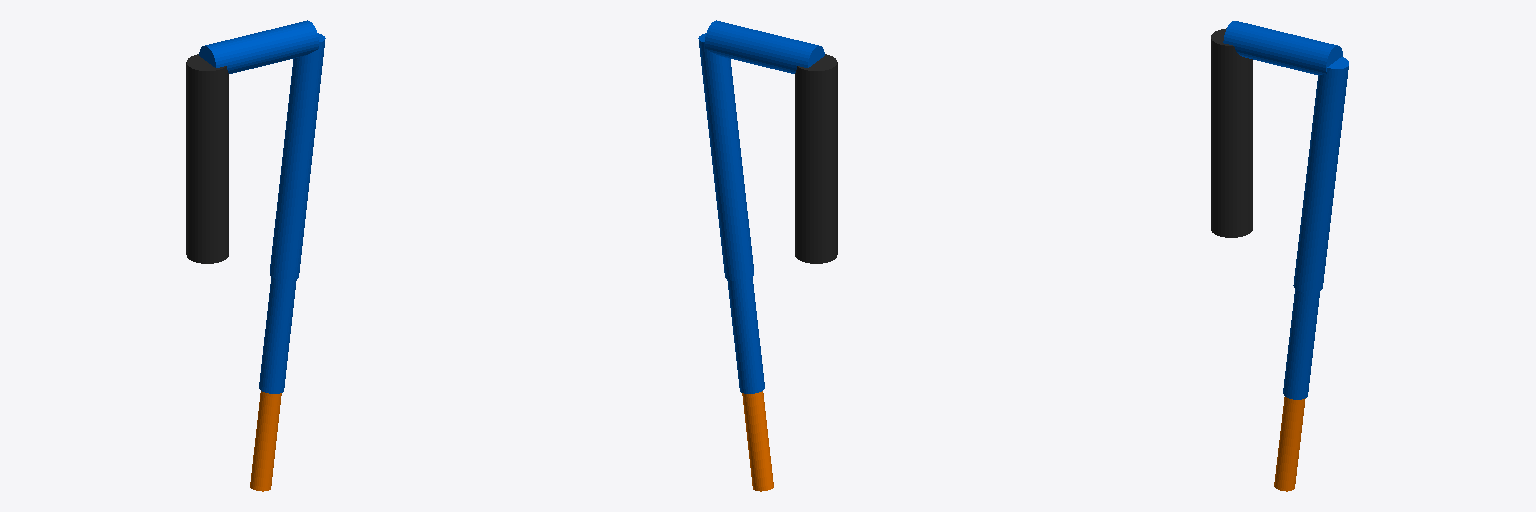
robot.urdf — hydraulic_arm:
<?xml version="1.0"?>
<robot name="hydraulic_arm">

  <material name="blue"><color rgba="0 0.4 0.8 1"/></material> <material name="orange"><color rgba="1 0.5 0 1"/></material> <material name="gray"><color rgba="0.2 0.2 0.2 1"/></material>

  <link name="base_link">
    <visual>
      <origin xyz="0 0 0.25" rpy="0 0 0"/>
      <geometry><cylinder radius="0.05" length="0.5"/></geometry>
      <material name="gray"><color rgba="0.2 0.2 0.2 1"/></material>
    </visual>
  </link>

  <joint name="joint1" type="revolute">
    <parent link="base_link"/>
    <child link="link1"/>
    <origin xyz="0 0 0.5" rpy="0 0 0"/>
    <axis xyz="0 0 1"/> <limit lower="-1.047" upper="1.047" effort="100" velocity="1.0"/>
  </joint>

  <link name="link1">
    <visual>
      <origin xyz="0.095 0 0" rpy="0 1.5708 0"/> 
      <geometry><cylinder radius="0.04" length="0.19"/></geometry>
      <material name="blue"><color rgba="0 0.4 0.8 1"/></material>
    </visual>
  </link>

  <joint name="joint2" type="revolute">
    <parent link="link1"/>
    <child link="link2"/>
    <origin xyz="0.19 0 0" rpy="1.5708 0 0"/> <axis xyz="0 0 1"/> <limit lower="-0.48" upper="1.57" effort="100" velocity="1.0"/>
  </joint>

  <link name="link2">
    <visual>
      <origin xyz="0.045 0 0" rpy="0 1.5708 0"/>
      <geometry><cylinder radius="0.04" length="0.09"/></geometry>
      <material name="blue"><color rgba="0 0.4 0.8 1"/></material>
    </visual>
  </link>

  <joint name="joint3" type="revolute">
    <parent link="link2"/>
    <child link="link3"/>
    <origin xyz="0.09 0 0" rpy="0 0 0"/>
    <axis xyz="0 0 1"/>
    <limit lower="-2.65" upper="-0.73" effort="100" velocity="1.0"/>
  </joint>

  <link name="link3">
    <visual>
      <origin xyz="0.3025 0 0" rpy="0 1.5708 0"/>
      <geometry><cylinder radius="0.035" length="0.605"/></geometry>
      <material name="blue"><color rgba="0 0.4 0.8 1"/></material>
    </visual>
  </link>
  
  <joint name="joint4" type="revolute">
    <parent link="link3"/>
    <child link="link4"/>
    <origin xyz="0.605 0 0" rpy="0 0 0"/>
    <axis xyz="0 0 1"/>
    <limit lower="-1.57" upper="1.57" effort="100" velocity="1.0"/>
  </joint>

  <link name="link4">
    <visual>
      <origin xyz="0.145 0 0" rpy="0 1.5708 0"/>
      <geometry><cylinder radius="0.03" length="0.29"/></geometry>
      <material name="blue"><color rgba="0 0.4 0.8 1"/></material>
    </visual>
  </link>

  
  <joint name="soft_joint_0" type="revolute">
    <parent link="link4"/>
    <child link="soft_0"/>
    <origin xyz="0.29 0 0" rpy="0 0 0"/>
    <axis xyz="0 1 0"/> <limit lower="-0.2" upper="0.2" effort="10" velocity="1.0"/>
  </joint>

  <link name="soft_0">
    <visual>
      <origin xyz="0.0125 0 0" rpy="0 1.5708 0"/>
      <geometry><cylinder radius="0.025" length="0.025"/></geometry>
      <material name="orange"><color rgba="1 0.5 0 1"/></material>
    </visual>
  </link>
        
  <joint name="soft_joint_1" type="revolute">
    <parent link="soft_0"/>
    <child link="soft_1"/>
    <origin xyz="0.025 0 0" rpy="0 0 0"/>
    <axis xyz="0 1 0"/> <limit lower="-0.2" upper="0.2" effort="10" velocity="1.0"/>
  </joint>

  <link name="soft_1">
    <visual>
      <origin xyz="0.0125 0 0" rpy="0 1.5708 0"/>
      <geometry><cylinder radius="0.025" length="0.025"/></geometry>
      <material name="orange"><color rgba="1 0.5 0 1"/></material>
    </visual>
  </link>
        
  <joint name="soft_joint_2" type="revolute">
    <parent link="soft_1"/>
    <child link="soft_2"/>
    <origin xyz="0.025 0 0" rpy="0 0 0"/>
    <axis xyz="0 1 0"/> <limit lower="-0.2" upper="0.2" effort="10" velocity="1.0"/>
  </joint>

  <link name="soft_2">
    <visual>
      <origin xyz="0.0125 0 0" rpy="0 1.5708 0"/>
      <geometry><cylinder radius="0.025" length="0.025"/></geometry>
      <material name="orange"><color rgba="1 0.5 0 1"/></material>
    </visual>
  </link>
        
  <joint name="soft_joint_3" type="revolute">
    <parent link="soft_2"/>
    <child link="soft_3"/>
    <origin xyz="0.025 0 0" rpy="0 0 0"/>
    <axis xyz="0 1 0"/> <limit lower="-0.2" upper="0.2" effort="10" velocity="1.0"/>
  </joint>

  <link name="soft_3">
    <visual>
      <origin xyz="0.0125 0 0" rpy="0 1.5708 0"/>
      <geometry><cylinder radius="0.025" length="0.025"/></geometry>
      <material name="orange"><color rgba="1 0.5 0 1"/></material>
    </visual>
  </link>
        
  <joint name="soft_joint_4" type="revolute">
    <parent link="soft_3"/>
    <child link="soft_4"/>
    <origin xyz="0.025 0 0" rpy="0 0 0"/>
    <axis xyz="0 1 0"/> <limit lower="-0.2" upper="0.2" effort="10" velocity="1.0"/>
  </joint>

  <link name="soft_4">
    <visual>
      <origin xyz="0.0125 0 0" rpy="0 1.5708 0"/>
      <geometry><cylinder radius="0.025" length="0.025"/></geometry>
      <material name="orange"><color rgba="1 0.5 0 1"/></material>
    </visual>
  </link>
        
  <joint name="soft_joint_5" type="revolute">
    <parent link="soft_4"/>
    <child link="soft_5"/>
    <origin xyz="0.025 0 0" rpy="0 0 0"/>
    <axis xyz="0 1 0"/> <limit lower="-0.2" upper="0.2" effort="10" velocity="1.0"/>
  </joint>

  <link name="soft_5">
    <visual>
      <origin xyz="0.0125 0 0" rpy="0 1.5708 0"/>
      <geometry><cylinder radius="0.025" length="0.025"/></geometry>
      <material name="orange"><color rgba="1 0.5 0 1"/></material>
    </visual>
  </link>
        
  <joint name="soft_joint_6" type="revolute">
    <parent link="soft_5"/>
    <child link="soft_6"/>
    <origin xyz="0.025 0 0" rpy="0 0 0"/>
    <axis xyz="0 1 0"/> <limit lower="-0.2" upper="0.2" effort="10" velocity="1.0"/>
  </joint>

  <link name="soft_6">
    <visual>
      <origin xyz="0.0125 0 0" rpy="0 1.5708 0"/>
      <geometry><cylinder radius="0.025" length="0.025"/></geometry>
      <material name="orange"><color rgba="1 0.5 0 1"/></material>
    </visual>
  </link>
        
  <joint name="soft_joint_7" type="revolute">
    <parent link="soft_6"/>
    <child link="soft_7"/>
    <origin xyz="0.025 0 0" rpy="0 0 0"/>
    <axis xyz="0 1 0"/> <limit lower="-0.2" upper="0.2" effort="10" velocity="1.0"/>
  </joint>

  <link name="soft_7">
    <visual>
      <origin xyz="0.0125 0 0" rpy="0 1.5708 0"/>
      <geometry><cylinder radius="0.025" length="0.025"/></geometry>
      <material name="orange"><color rgba="1 0.5 0 1"/></material>
    </visual>
  </link>
        
  <joint name="soft_joint_8" type="revolute">
    <parent link="soft_7"/>
    <child link="soft_8"/>
    <origin xyz="0.025 0 0" rpy="0 0 0"/>
    <axis xyz="0 1 0"/> <limit lower="-0.2" upper="0.2" effort="10" velocity="1.0"/>
  </joint>

  <link name="soft_8">
    <visual>
      <origin xyz="0.0125 0 0" rpy="0 1.5708 0"/>
      <geometry><cylinder radius="0.025" length="0.025"/></geometry>
      <material name="orange"><color rgba="1 0.5 0 1"/></material>
    </visual>
  </link>
        
  <joint name="soft_joint_9" type="revolute">
    <parent link="soft_8"/>
    <child link="soft_9"/>
    <origin xyz="0.025 0 0" rpy="0 0 0"/>
    <axis xyz="0 1 0"/> <limit lower="-0.2" upper="0.2" effort="10" velocity="1.0"/>
  </joint>

  <link name="soft_9">
    <visual>
      <origin xyz="0.0125 0 0" rpy="0 1.5708 0"/>
      <geometry><cylinder radius="0.025" length="0.025"/></geometry>
      <material name="orange"><color rgba="1 0.5 0 1"/></material>
    </visual>
  </link>
        
</robot>

--- What the picture shows (computed from the rendered views, not written in the file) ---
Views: 3 orthographic renders of the robot side by side, from view 1: azimuth 30°, elevation 25°; view 2: azimuth 150°, elevation 25°; view 3: azimuth 330°, elevation 25°.
Robot: hydraulic_arm — 15 links, 14 joints (14 revolute); root link base_link; default pose: joints at zero except 1 at the middle of their limits (joint3 = -1.69).
Visible links, largest first — view 1: base_link, link3, link4, link1, link2; view 2: base_link, link3, link4, link1, link2; view 3: base_link, link3, link4, link1, link2.
Boxes of the visible links, left/top/right/bottom form: base_link: left=186, top=54, right=228, bottom=263; link3: left=270, top=33, right=325, bottom=280; link4: left=259, top=277, right=296, bottom=393; link1: left=199, top=29, right=285, bottom=73; link2: left=275, top=20, right=318, bottom=60; base_link: left=795, top=54, right=837, bottom=263; link3: left=698, top=33, right=753, bottom=280; link4: left=727, top=277, right=764, bottom=393; link1: left=738, top=29, right=824, bottom=73; link2: left=705, top=20, right=748, bottom=60; base_link: left=1211, top=28, right=1252, bottom=237; link3: left=1293, top=57, right=1348, bottom=292; link4: left=1283, top=289, right=1319, bottom=399; link1: left=1223, top=21, right=1304, bottom=69; link2: left=1293, top=38, right=1342, bottom=75.
Size in the robot's own frame: 0.3648 by 0.1 by 1.18 metres.
Geometry: primitives only (box / cylinder / sphere), no mesh files.